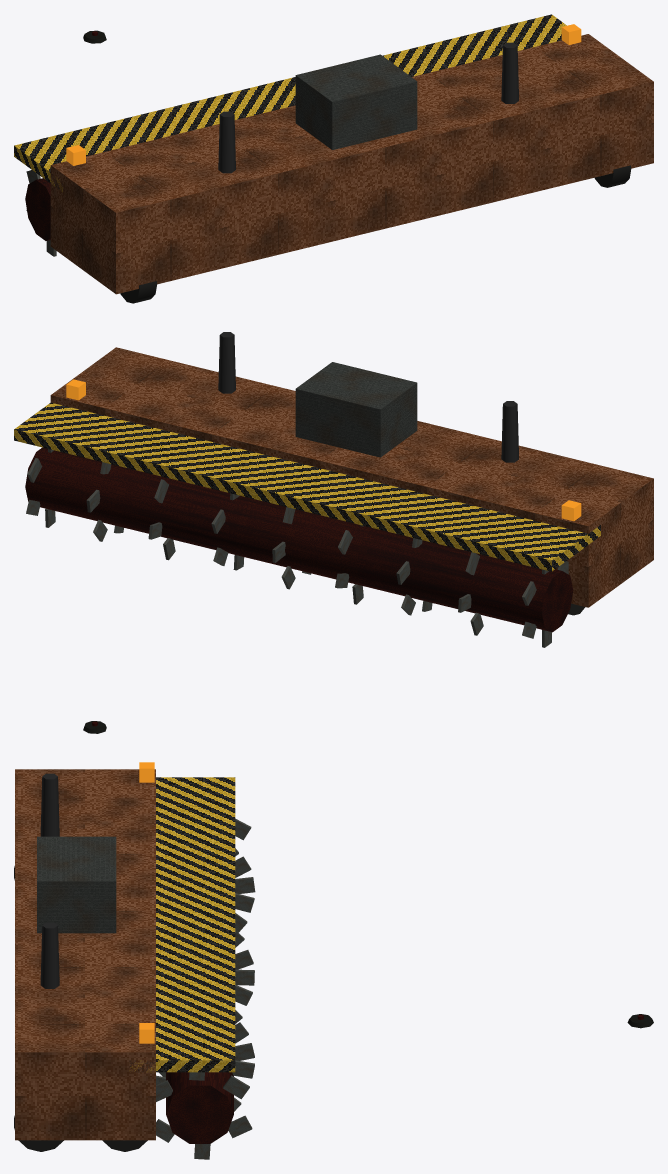
Rendered from sonar.glb.
3 renders of one model, top to bottom at view 1: azimuth 30°, elevation 25°; view 2: azimuth 150°, elevation 25°; view 3: azimuth 270°, elevation 25°, orthographic. The views are drawn at different scales.
Parts seen in each view (by area): view 1: harvester, drum; view 2: harvester, drum; view 3: harvester, drum.
Boxes of the visible parts, x1,y1,x2,y2 form: harvester: [14, 14, 653, 303]; drum: [25, 170, 56, 256]; harvester: [14, 332, 653, 615]; drum: [25, 447, 573, 647]; harvester: [14, 769, 235, 1151]; drum: [156, 818, 255, 1159].
Size of the model in its own units: 15.2 by 4.45 by 14.52.
Materials: 11 (8 with a texture image).
